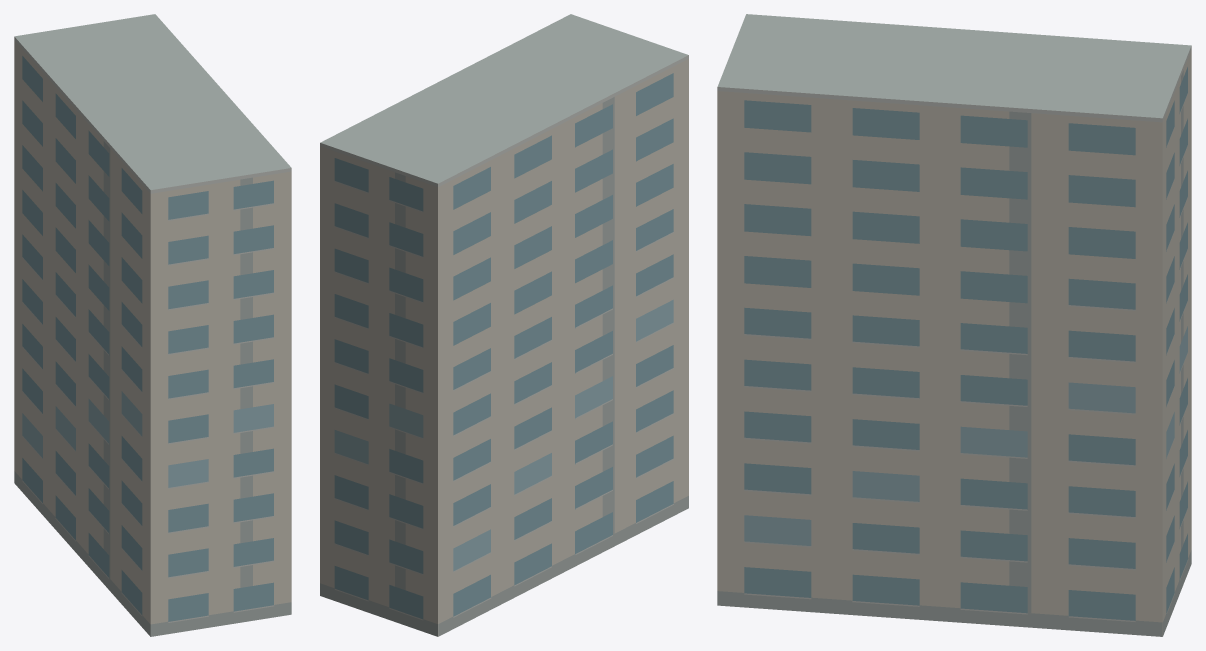
The model's file is residential-109cdf6a-601c-4ca8-947e-2924b54e3e4a.glb.
3 views of the same model, side by side, from view 1: azimuth 30°, elevation 25°; view 2: azimuth 150°, elevation 25°; view 3: azimuth 270°, elevation 25° (orthographic). The views are drawn at different scales.
Parts seen in each view (by area): view 1: residential-109cdf6a-601c-4ca8-947e-2924b54e3e4a.tmp; view 2: residential-109cdf6a-601c-4ca8-947e-2924b54e3e4a.tmp; view 3: residential-109cdf6a-601c-4ca8-947e-2924b54e3e4a.tmp.
Boxes of the visible parts, x1,y1,x2,y2 form: residential-109cdf6a-601c-4ca8-947e-2924b54e3e4a.tmp: (14, 14, 291, 636); residential-109cdf6a-601c-4ca8-947e-2924b54e3e4a.tmp: (320, 14, 688, 636); residential-109cdf6a-601c-4ca8-947e-2924b54e3e4a.tmp: (717, 14, 1191, 636).
Size of the model in its own units: 13.38 by 31 by 25.69.
